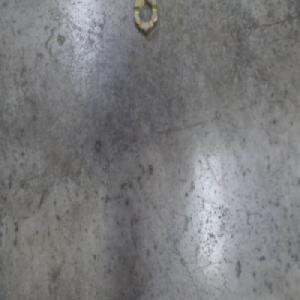Nut: (132, 0, 159, 38)
